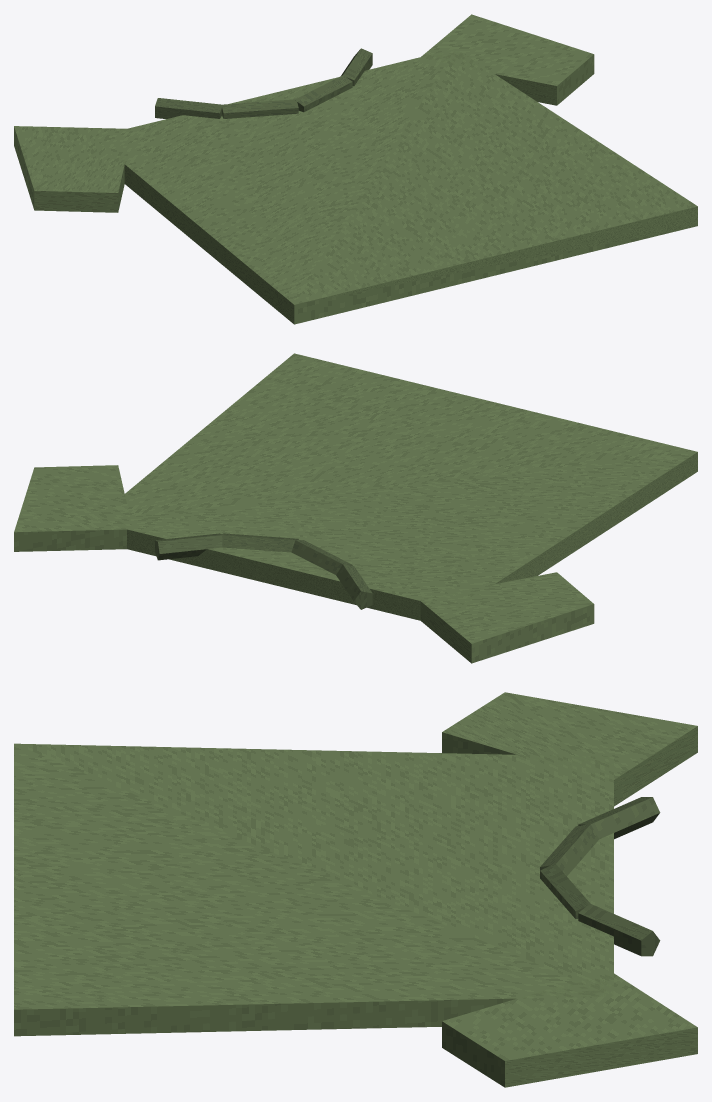
Rendered from under_armor.glb.
3 views of the same model, one above another, from view 1: azimuth 30°, elevation 25°; view 2: azimuth 150°, elevation 25°; view 3: azimuth 270°, elevation 25° (orthographic). The views are drawn at different scales.
Parts seen in each view (by area): view 1: block_shirt torso, block_sleeve or strap -1, block_sleeve or strap 1, block_bound collar 1, block_bound collar 0, block_bound collar 2, block_bound collar 3; view 2: block_shirt torso, block_sleeve or strap -1, block_sleeve or strap 1, block_bound collar 3, block_bound collar 2, block_bound collar 0, block_bound collar 1; view 3: block_shirt torso, block_sleeve or strap 1, block_sleeve or strap -1, block_bound collar 3, block_bound collar 0, block_bound collar 1, block_bound collar 2.
Part boxes in pixels (box(x1,y1,x2,y2)): block_shirt torso: box(92, 49, 697, 324); block_sleeve or strap -1: box(14, 126, 126, 212); block_sleeve or strap 1: box(419, 14, 594, 105); block_bound collar 1: box(221, 99, 298, 118); block_bound collar 0: box(155, 98, 222, 118); block_bound collar 2: box(295, 75, 352, 112); block_bound collar 3: box(341, 48, 372, 86); block_shirt torso: box(114, 353, 697, 620); block_sleeve or strap -1: box(420, 572, 594, 663); block_sleeve or strap 1: box(14, 465, 132, 551); block_bound collar 3: box(155, 533, 222, 560); block_bound collar 2: box(222, 533, 298, 552); block_bound collar 0: box(336, 564, 372, 609); block_bound collar 1: box(291, 539, 352, 574); block_shirt torso: box(14, 743, 613, 1036); block_sleeve or strap 1: box(442, 972, 697, 1087); block_sleeve or strap -1: box(442, 692, 697, 806); block_bound collar 3: box(578, 903, 660, 956); block_bound collar 0: box(578, 797, 660, 839); block_bound collar 1: box(540, 824, 599, 875); block_bound collar 2: box(540, 863, 590, 918).
Bounding box in the file's own units: 0.416 × 0.0207 × 0.326.
1 material, 1 textured.
